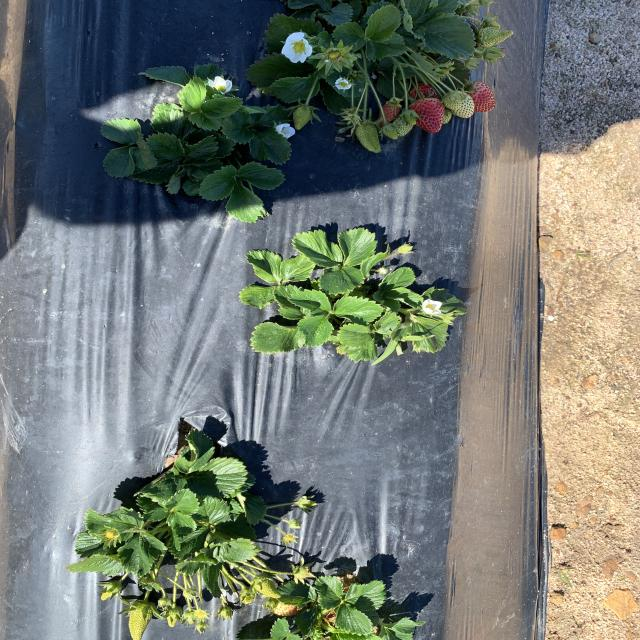unripe: (407, 99, 446, 134), (457, 79, 497, 113), (410, 76, 447, 106), (376, 95, 401, 124)
